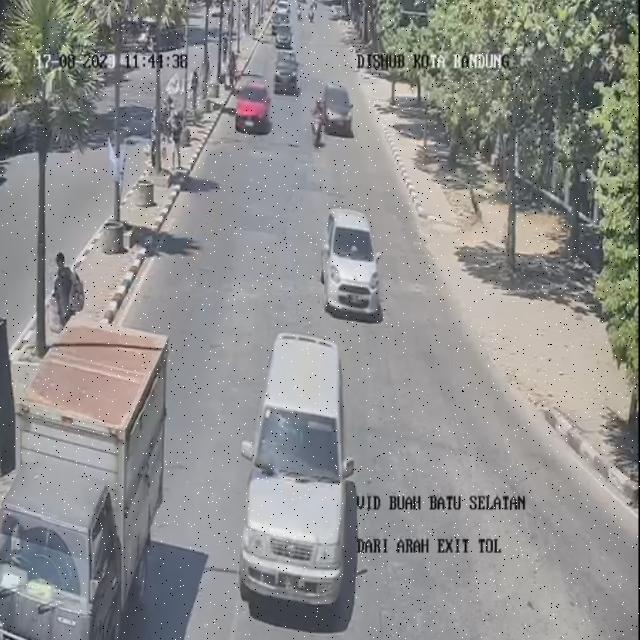cars: (0, 311, 167, 634), (243, 325, 346, 604), (324, 202, 383, 318), (238, 76, 275, 132), (326, 77, 353, 135), (273, 52, 302, 94), (270, 24, 292, 54)
motorcycle: (308, 96, 328, 152), (306, 0, 320, 24)
